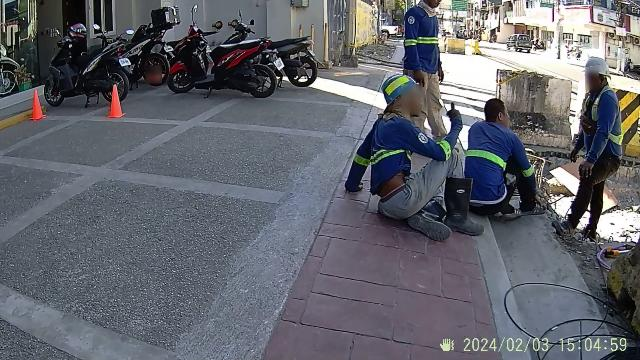construction_materials: (491, 66, 577, 154), (446, 31, 486, 60), (104, 82, 128, 122), (24, 88, 48, 124)
